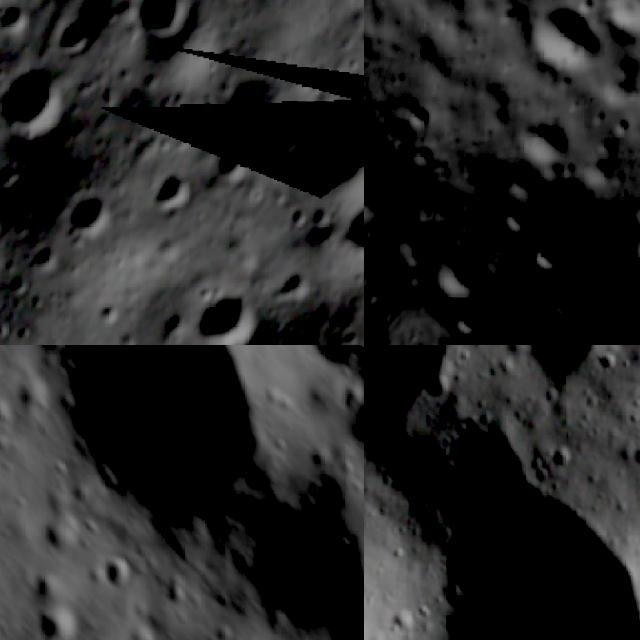crater: (39, 345, 270, 524), (509, 0, 608, 89), (0, 53, 91, 146), (186, 279, 275, 345), (420, 237, 497, 312), (508, 108, 586, 182), (491, 308, 640, 345), (510, 345, 619, 389), (54, 181, 122, 245), (328, 176, 364, 287), (145, 156, 202, 224), (126, 0, 195, 50), (50, 12, 108, 63), (488, 192, 542, 245), (583, 0, 640, 48), (521, 232, 570, 285), (442, 298, 492, 344), (400, 96, 444, 142), (300, 345, 364, 375), (29, 604, 78, 640), (382, 600, 422, 640), (620, 171, 640, 245), (95, 558, 130, 596), (417, 323, 470, 345), (0, 144, 14, 212), (26, 576, 60, 604), (624, 223, 640, 272), (630, 261, 640, 310)
